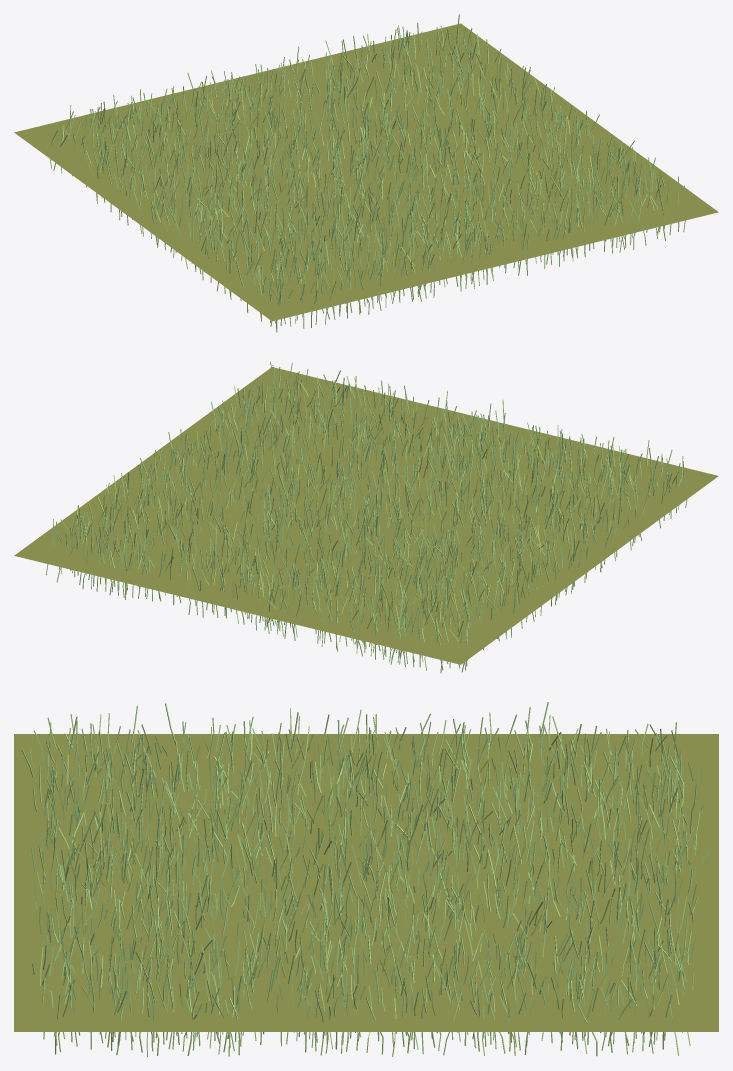
Rendered from grassanimate2.fbx.
3 views of the same model, one above another, from view 1: azimuth 30°, elevation 25°; view 2: azimuth 150°, elevation 25°; view 3: azimuth 270°, elevation 25° (orthographic). The views are drawn at different scales.
Visible parts, largest first — view 1: Plane.001, Mesh; view 2: Plane.001, Mesh; view 3: Plane.001, Mesh.
Part boxes in pixels (x1=…): Plane.001: x1=14, y1=23, x2=718, y2=321; Mesh: x1=50, y1=14, x2=685, y2=332; Plane.001: x1=14, y1=367, x2=718, y2=664; Mesh: x1=46, y1=361, x2=687, y2=673; Plane.001: x1=14, y1=734, x2=718, y2=1031; Mesh: x1=21, y1=702, x2=710, y2=1056.
Size of the model in its own units: 511 by 63.74 by 511.
